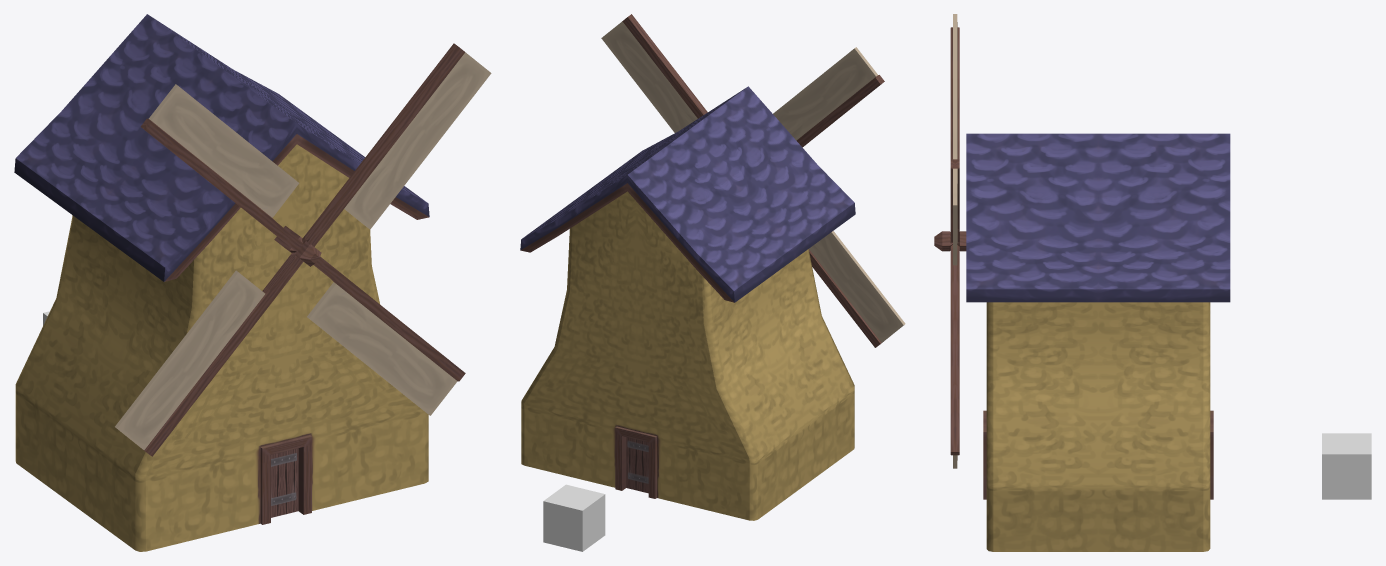
File: Windmill.glb
3 views of the same model, side by side, from view 1: azimuth 30°, elevation 25°; view 2: azimuth 150°, elevation 25°; view 3: azimuth 270°, elevation 25° (orthographic). The views are drawn at different scales.
Parts seen in each view (by area): view 1: Windmill, Windmill_Blades; view 2: Windmill, Windmill_Blades, Cube-noimp; view 3: Windmill, Windmill_Blades, Cube-noimp.
Boxes of the visible parts, x1=… form: Windmill: x1=14, y1=14, x2=429, y2=551; Windmill_Blades: x1=115, y1=43, x2=491, y2=456; Windmill: x1=520, y1=86, x2=855, y2=520; Windmill_Blades: x1=601, y1=14, x2=905, y2=347; Cube-noimp: x1=543, y1=484, x2=605, y2=551; Windmill: x1=966, y1=133, x2=1230, y2=551; Windmill_Blades: x1=934, y1=14, x2=966, y2=468; Cube-noimp: x1=1322, y1=433, x2=1371, y2=499.
Size of the model in its own units: 7.68 by 9.34 by 8.8.
1 material, 1 textured.
